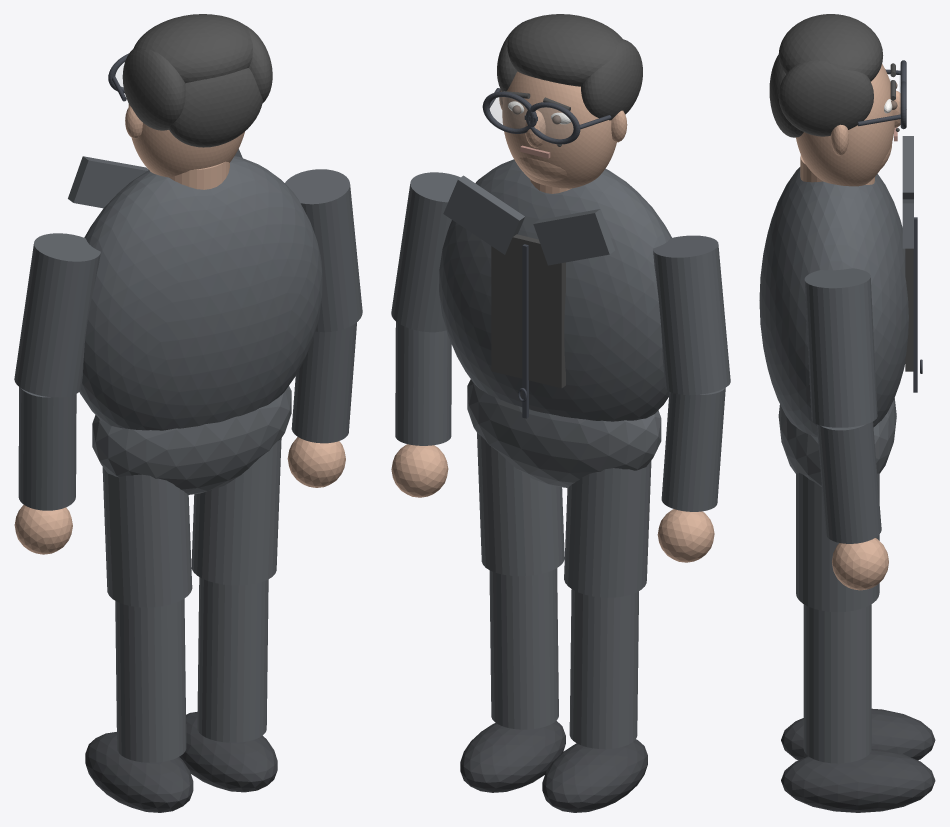
The model's file is nazmul_full_body_3d_avatar.glb.
3 renders of one model, left to right at view 1: azimuth 30°, elevation 25°; view 2: azimuth 150°, elevation 25°; view 3: azimuth 270°, elevation 25°, orthographic. The views are drawn at different scales.
Parts seen in each view (by area): view 1: Jacket_Body, LowerLeg_R, LowerLeg_L, UpperLeg_L, Pelvis, UpperArm_L, UpperLeg_R, UpperArm_R, ForeArm_L, ForeArm_R, Hair_Top, Shoe_L (+9 smaller); view 2: Jacket_Body, Pelvis, LowerLeg_R, LowerLeg_L, UpperLeg_L, UpperArm_L, Shirt_Center, UpperLeg_R, UpperArm_R, Head, ForeArm_L, ForeArm_R (+15 smaller); view 3: Jacket_Body, LowerLeg_R, UpperArm_R, Shoe_R, ForeArm_R, Hair_Right, UpperLeg_R, Head, Hair_Top, Shoe_L, Pelvis, Hand_R (+6 smaller).
Part boxes in pixels (bbox=[...]): Jacket_Body: bbox=[79, 156, 322, 430]; LowerLeg_R: bbox=[197, 577, 268, 742]; LowerLeg_L: bbox=[115, 598, 186, 762]; UpperLeg_L: bbox=[102, 467, 192, 607]; Pelvis: bbox=[92, 386, 291, 494]; UpperArm_L: bbox=[14, 233, 100, 397]; UpperLeg_R: bbox=[191, 438, 281, 585]; UpperArm_R: bbox=[285, 169, 362, 332]; ForeArm_L: bbox=[18, 387, 76, 510]; ForeArm_R: bbox=[291, 322, 356, 443]; Hair_Top: bbox=[134, 14, 252, 83]; Shoe_L: bbox=[85, 732, 193, 812]; Jacket_Body: bbox=[439, 159, 671, 421]; Pelvis: bbox=[467, 379, 661, 487]; LowerLeg_R: bbox=[489, 568, 558, 729]; LowerLeg_L: bbox=[569, 589, 638, 749]; UpperLeg_L: bbox=[564, 461, 651, 597]; UpperArm_L: bbox=[653, 235, 730, 395]; Shirt_Center: bbox=[491, 234, 565, 388]; UpperLeg_R: bbox=[477, 433, 564, 576]; UpperArm_R: bbox=[391, 172, 460, 332]; Head: bbox=[502, 71, 616, 188]; ForeArm_L: bbox=[661, 388, 725, 511]; ForeArm_R: bbox=[395, 322, 451, 445]; Jacket_Body: bbox=[759, 167, 908, 437]; LowerLeg_R: bbox=[803, 604, 871, 763]; UpperArm_R: bbox=[804, 268, 877, 427]; Shoe_R: bbox=[781, 749, 935, 812]; ForeArm_R: bbox=[817, 421, 881, 543]; Hair_Right: bbox=[778, 60, 873, 136]; UpperLeg_R: bbox=[796, 472, 879, 612]; Head: bbox=[796, 64, 894, 186]; Hair_Top: bbox=[778, 14, 883, 81]; Shoe_L: bbox=[781, 708, 935, 760]; Pelvis: bbox=[778, 398, 896, 486]; Hand_R: bbox=[832, 538, 888, 590].
Bounding box in the file's own units: 0.8446 × 1.85 × 0.387.
